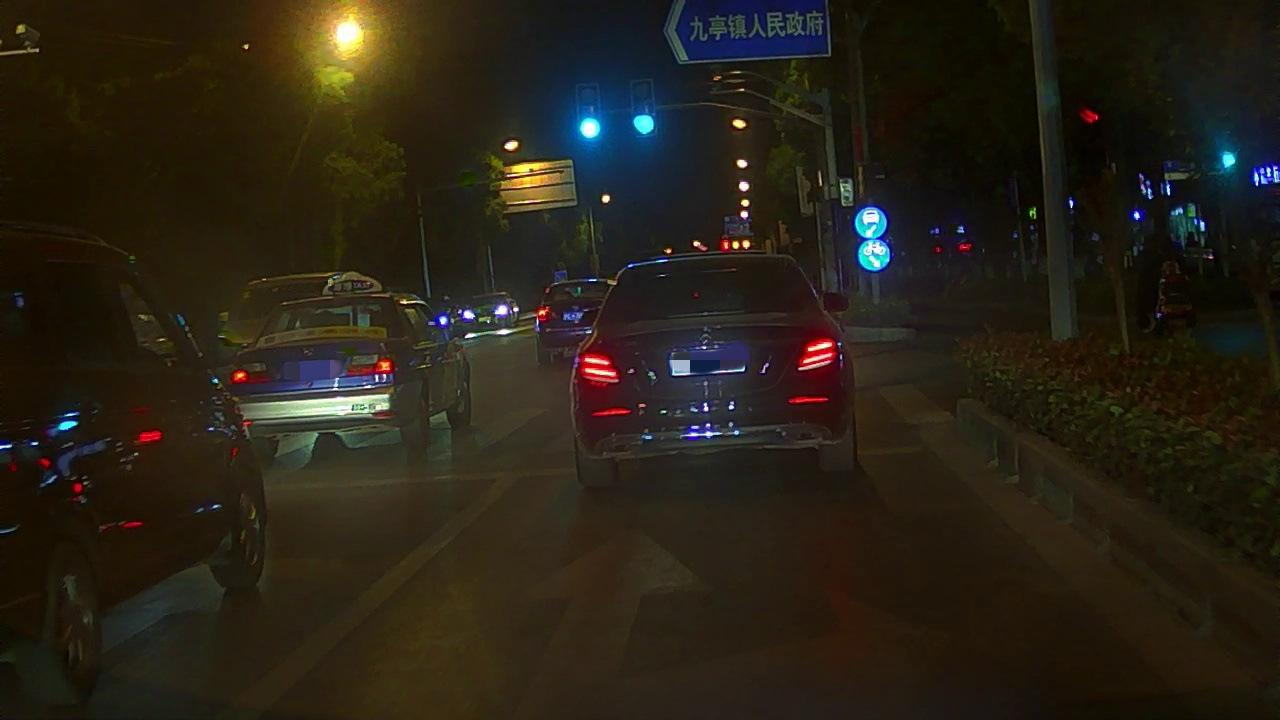traffic_light: (576, 86, 601, 141), (633, 82, 656, 136)
